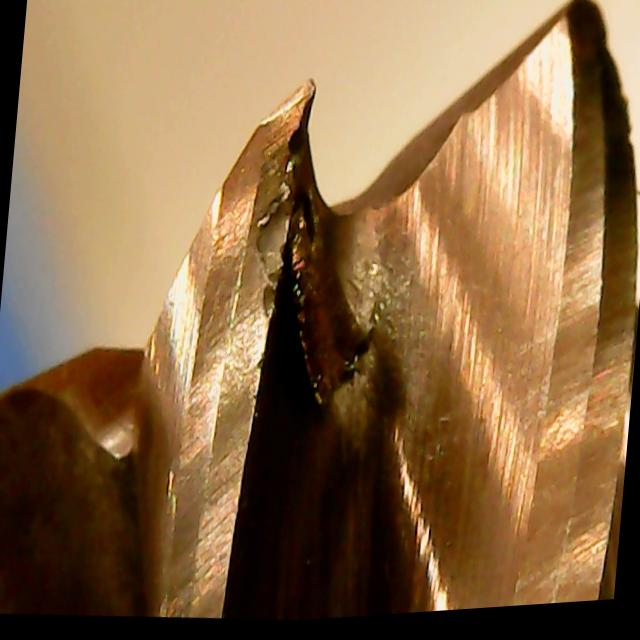Tool-wear-class-2: (165, 68, 342, 416)
